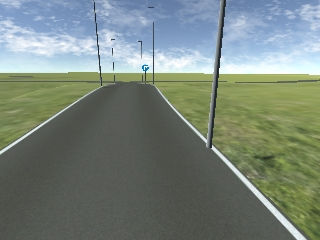right: (141, 64, 150, 72)
